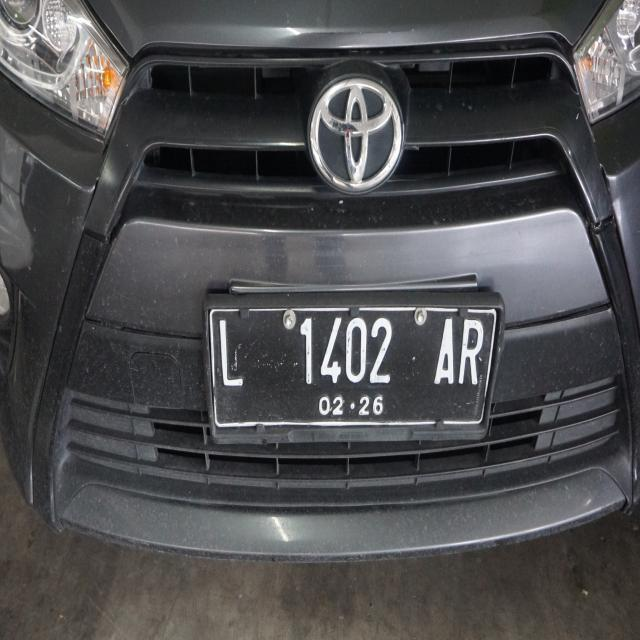0: (346, 316, 368, 390)
1: (290, 305, 322, 393)
2: (368, 312, 394, 397)
4: (317, 309, 343, 396)
A: (430, 309, 456, 401)
L: (210, 310, 257, 420)
R: (456, 306, 484, 401)
